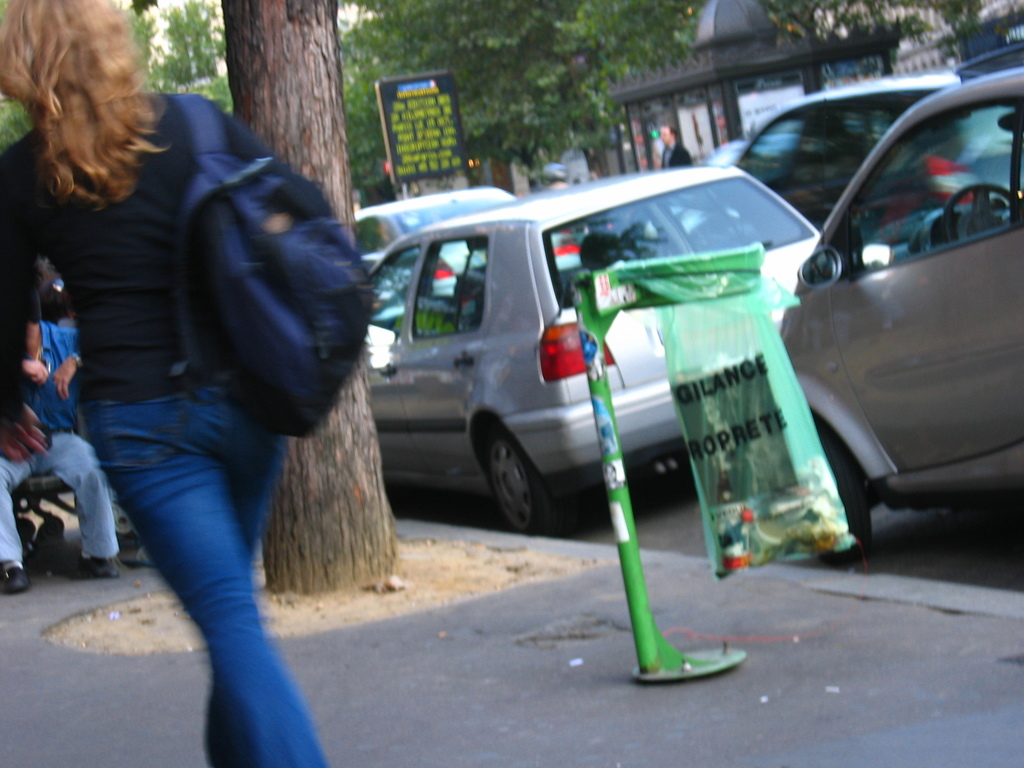Car: (373, 174, 823, 537), (770, 67, 1023, 560), (647, 75, 1023, 245), (353, 184, 584, 323)
